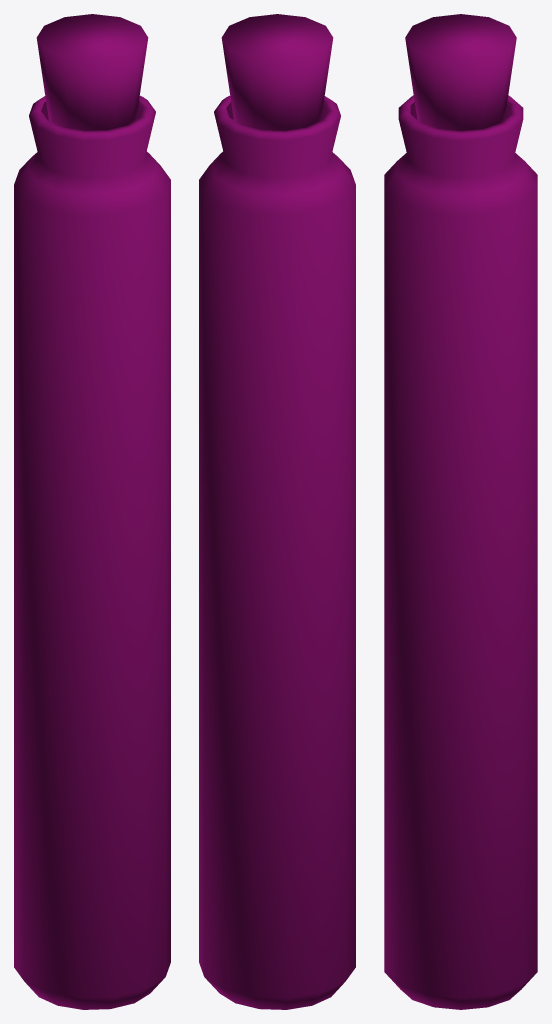
File: bote de sangre.obj
3 renders of one model, left to right at view 1: azimuth 30°, elevation 25°; view 2: azimuth 150°, elevation 25°; view 3: azimuth 270°, elevation 25°, orthographic.
Visible parts, largest first — view 1: Cylinder001; view 2: Cylinder001; view 3: Cylinder001.
Boxes of the visible parts, x1,y1,x2,y2 form: Cylinder001: (14, 14, 170, 1009); Cylinder001: (199, 14, 355, 1009); Cylinder001: (384, 14, 537, 1009).
Size of the model in its own units: 7.91 by 53.13 by 7.71.
